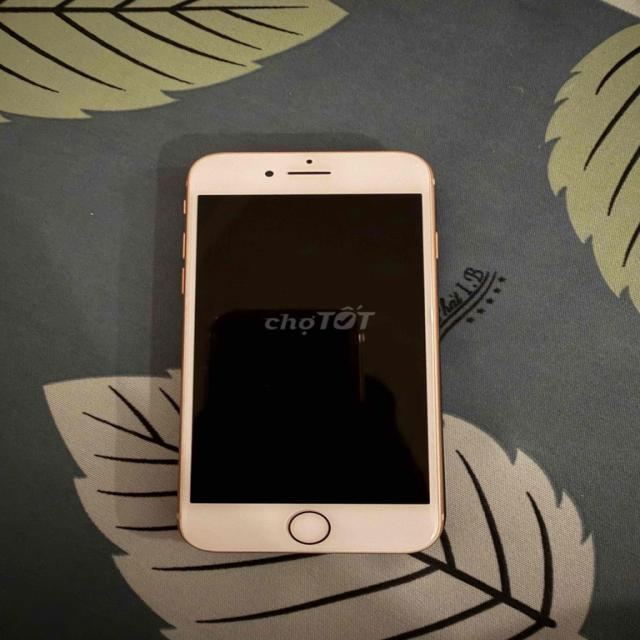gen_7_8: (174, 144, 454, 565)
